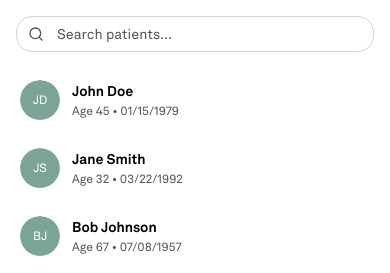
Test: PatientRoster › Search Functionality › filters patients by phone number
In the field with placeholder "Search patients...": (195, 34) [16, 16, 374, 52], type "0102"
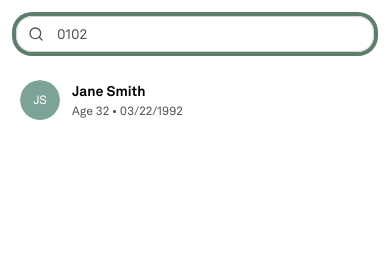
Result: the text "Jane Smith" is shown at [72, 81, 146, 101]
Result: the button "John Doe" is gone
